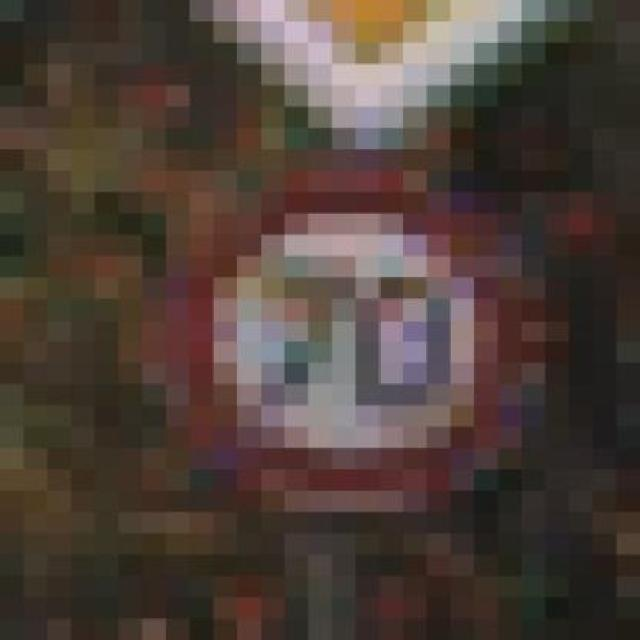forb_speed_over_70: (179, 176, 519, 507)
